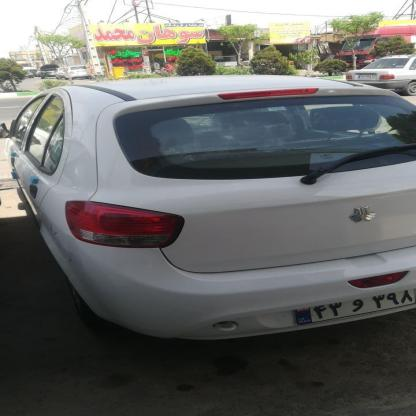Car: (0, 83, 416, 340), (348, 50, 416, 101)
